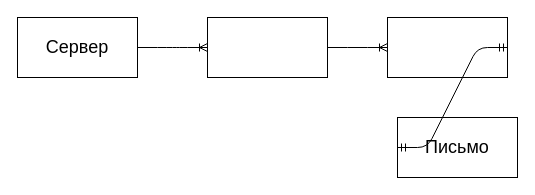
Some shapes in this 535 by 195 pixel diagram are drawn without their labels. The box of each missing label's shape, as (x1, y1, x2, y2) in pixels:
Процесс: (386, 16, 508, 78)
Сокет: (206, 16, 328, 78)
